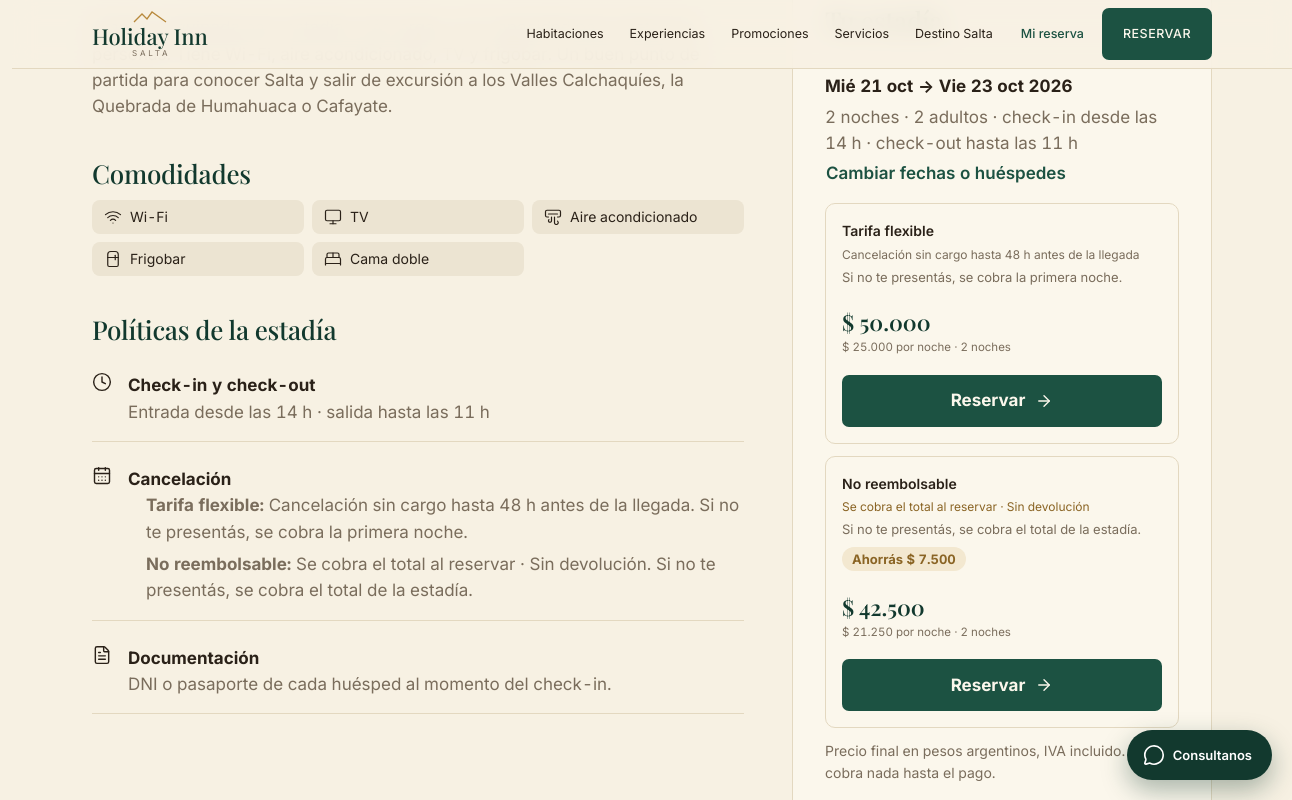
Detalle del tipo › Reservar usa el mismo flujo que Elegir
The image size is (1292, 800).
(page scrolled)
Click the button with aria-label "Reservar Tarifa flexible por $ 50.000": (1002, 401) [842,375,1162,427]
(page scrolled)
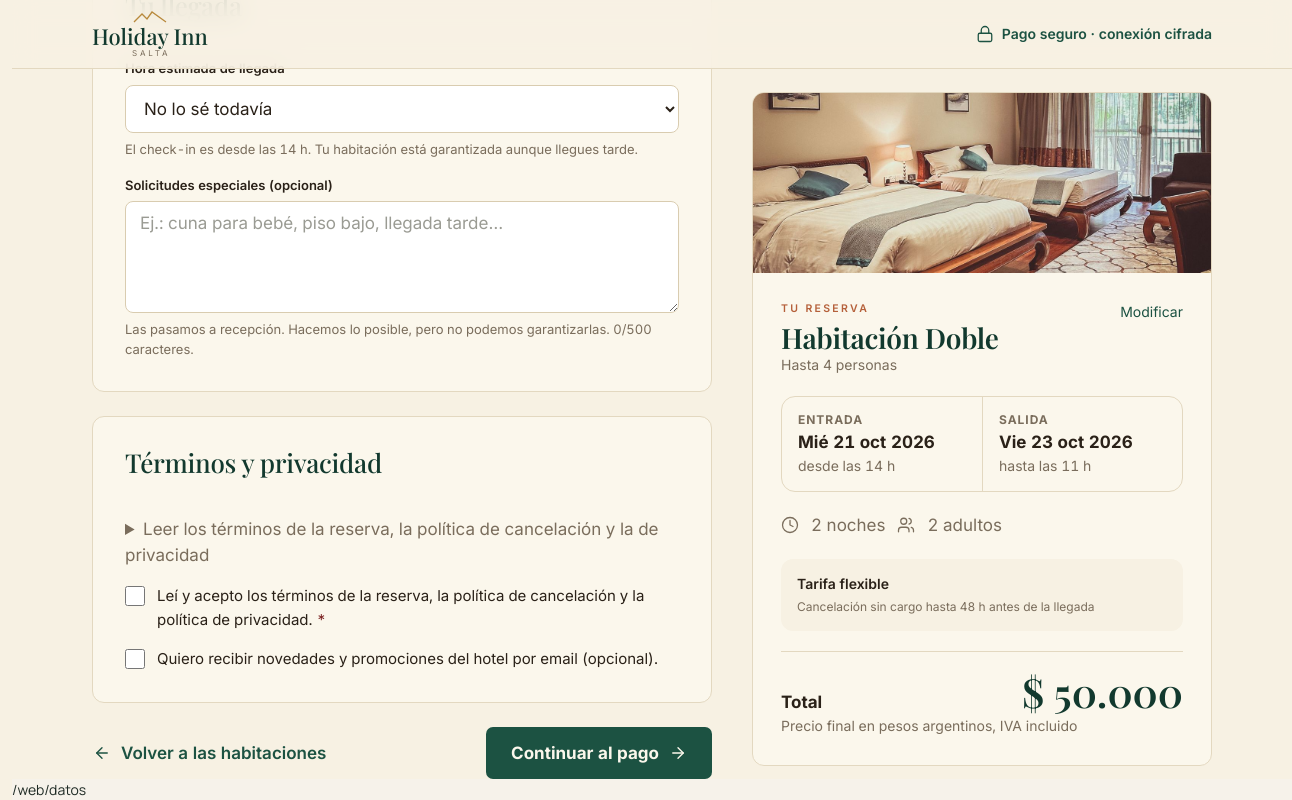
Expected: the text with test id "ruta" reads "/web/datos", [12,780,86,799]
